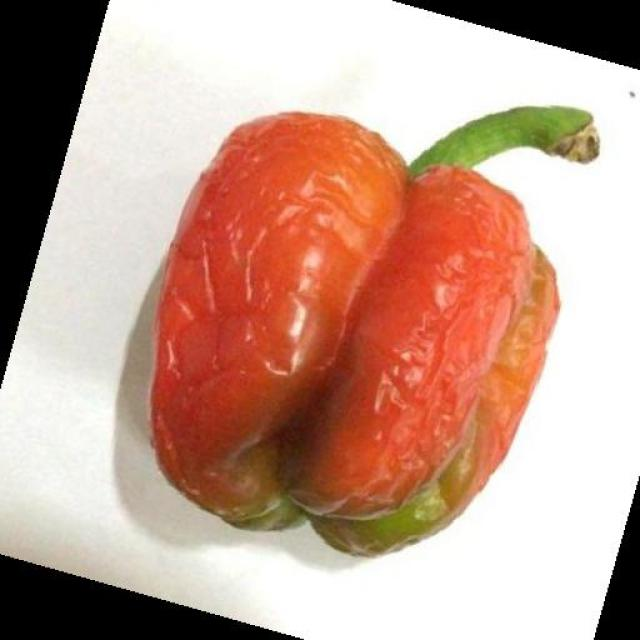Stale_Capsicum: (166, 100, 549, 531)
